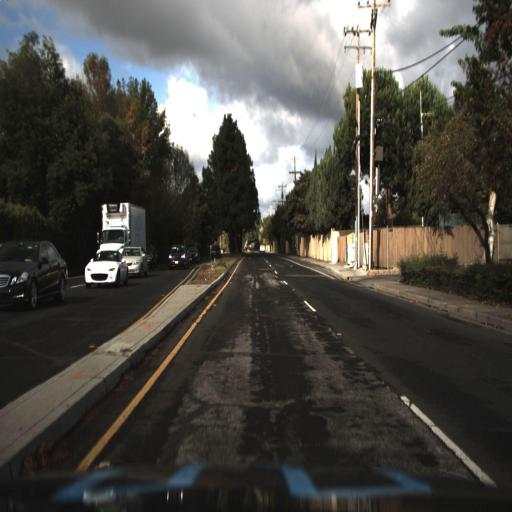car: (0, 240, 70, 311), (81, 248, 127, 294), (84, 249, 128, 284), (123, 242, 152, 282), (125, 244, 153, 276), (163, 242, 188, 269), (186, 240, 203, 270), (166, 244, 185, 270)
truck: (96, 200, 144, 260), (98, 203, 145, 248)
